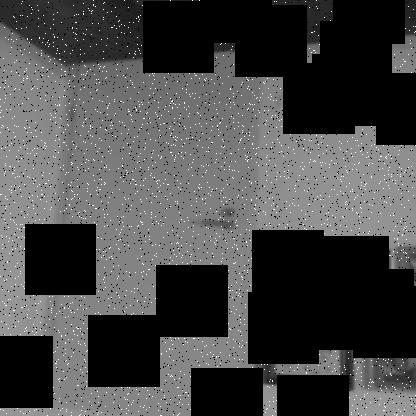Porte: (33, 49, 265, 415)
